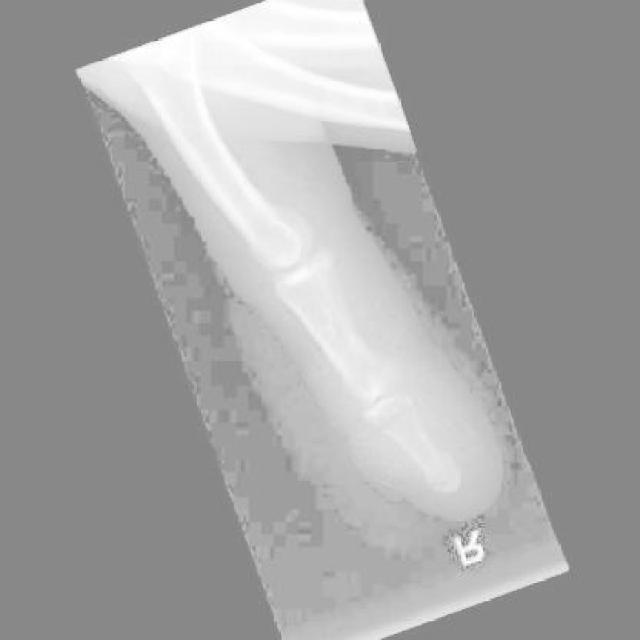Fracture: (360, 394, 422, 443), (417, 452, 465, 500)
